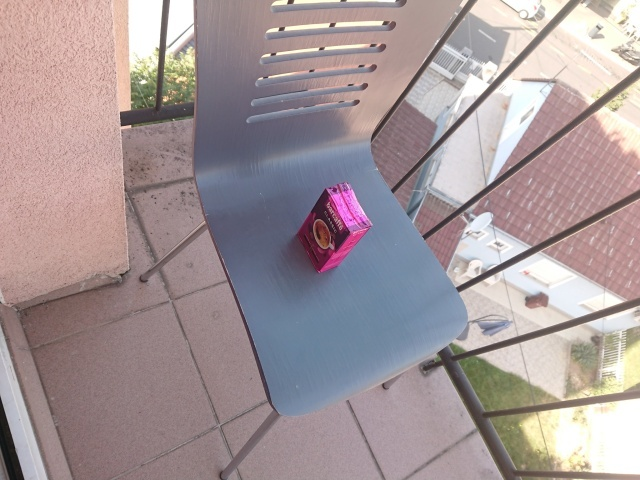Barcaffe Classic Original 225g: (296, 180, 375, 276)
